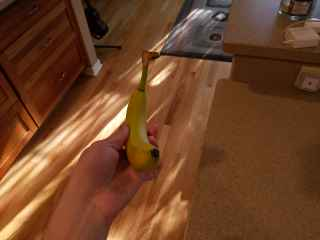banana: (123, 49, 167, 181)
